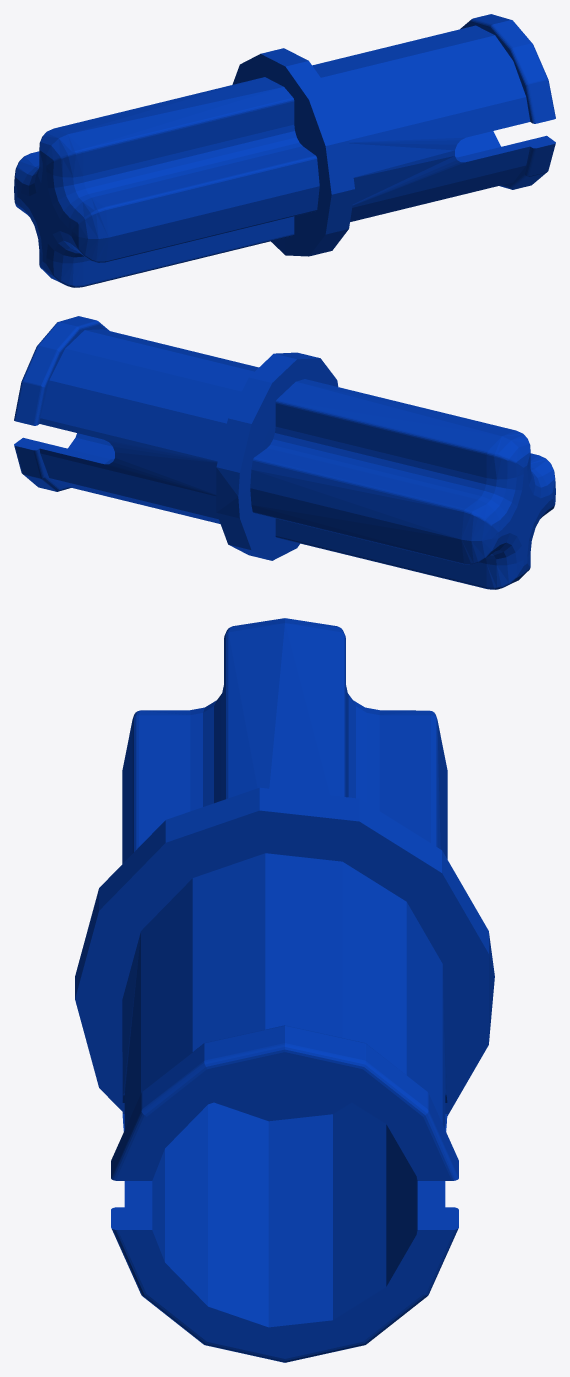
The model's file is Blue_4206482_JCA.fbx.
3 renders of one model, top to bottom at view 1: azimuth 30°, elevation 25°; view 2: azimuth 150°, elevation 25°; view 3: azimuth 270°, elevation 25°, orthographic. The views are drawn at different scales.
Visible parts, largest first — view 1: Blue_4206482_JCA; view 2: Blue_4206482_JCA; view 3: Blue_4206482_JCA.
Part boxes in pixels (x1=…): Blue_4206482_JCA: x1=14, y1=14, x2=555, y2=287; Blue_4206482_JCA: x1=14, y1=316, x2=555, y2=589; Blue_4206482_JCA: x1=75, y1=618, x2=494, y2=1362.
Bounding box in the file's own units: 1.6 × 0.6155 × 0.62.
